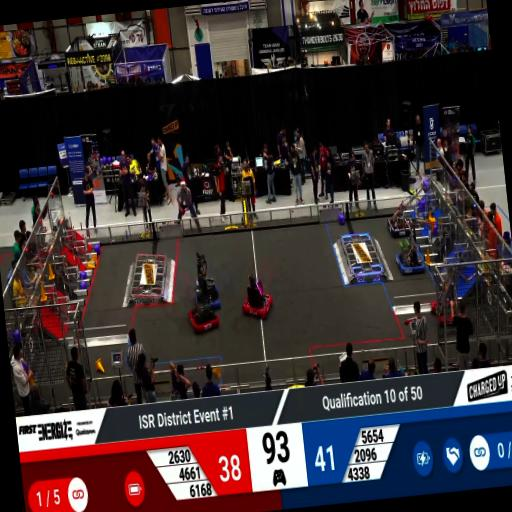robot: (240, 278, 276, 322), (391, 244, 428, 280), (187, 298, 221, 336), (192, 273, 222, 312), (429, 296, 464, 328), (383, 210, 411, 240)
